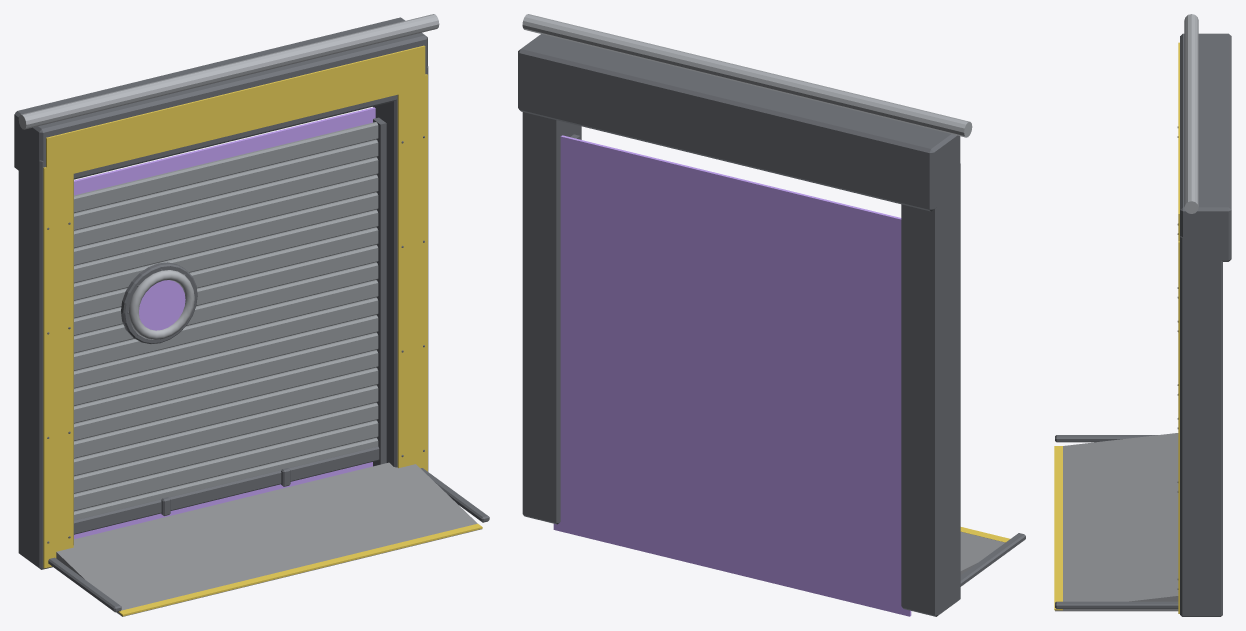
File: Garage_Gate.glb
The picture shows the model from 3 angles, left to right: view 1: azimuth 30°, elevation 25°; view 2: azimuth 150°, elevation 25°; view 3: azimuth 270°, elevation 25°; orthographic projection. The views are drawn at different scales.
Parts seen in each view (by area): view 1: Garage_Gate; view 2: Garage_Gate; view 3: Garage_Gate.
Part boxes in pixels (bbox=[...]): Garage_Gate: bbox=[14, 14, 489, 616]; Garage_Gate: bbox=[518, 14, 1025, 616]; Garage_Gate: bbox=[1054, 14, 1231, 616].
Bounding box in the file's own units: 3.1 × 3.31 × 1.24.
